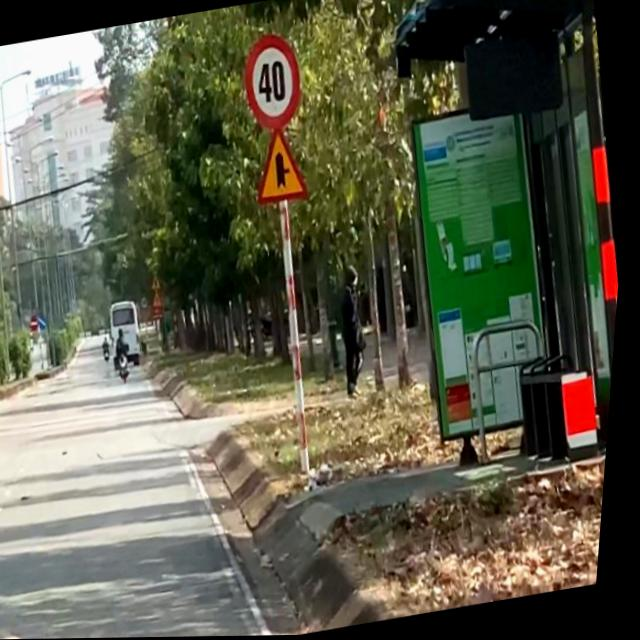Cam di nguoc chieu: (33, 316, 45, 332)
Giao nhau voi duong khong uu tien ben phai: (245, 118, 318, 213)
Toc do toi da cho phep: (233, 19, 309, 130)
Vong chuong ngai vat sang phai: (42, 316, 53, 331)
